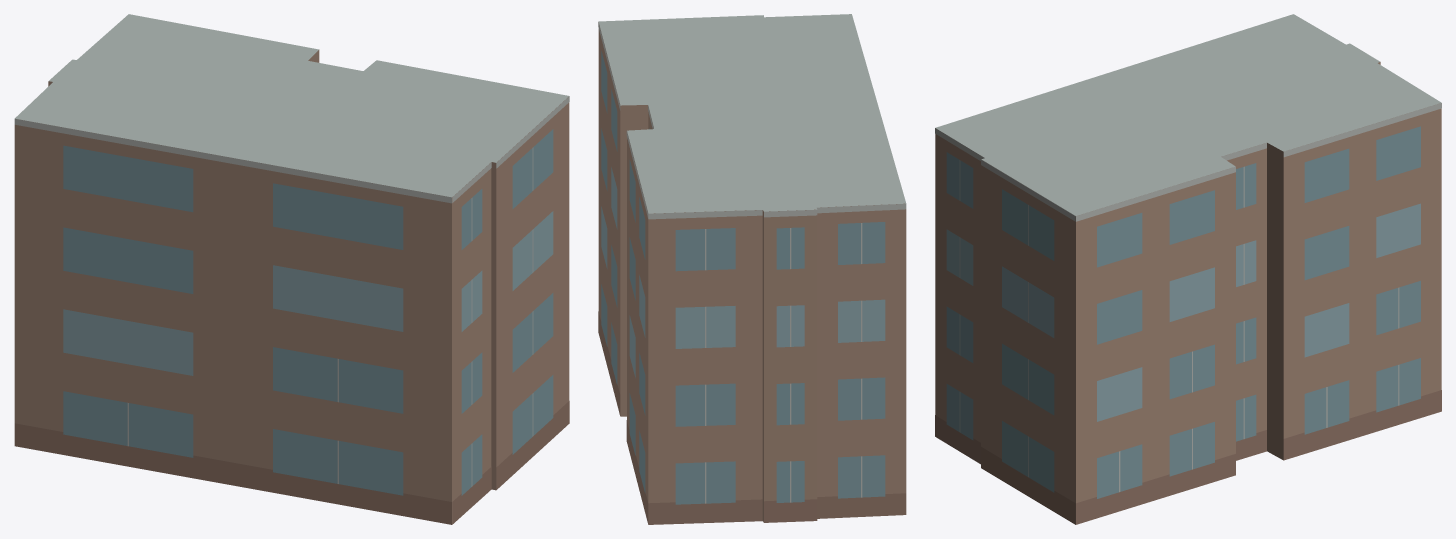
File: survey-upis-32802294.glb
3 renders of one model, left to right at view 1: azimuth 30°, elevation 25°; view 2: azimuth 150°, elevation 25°; view 3: azimuth 270°, elevation 25°, orthographic. The views are drawn at different scales.
Visible parts, largest first — view 1: survey-upis-32802294.tmp; view 2: survey-upis-32802294.tmp; view 3: survey-upis-32802294.tmp.
Boxes of the visible parts, box(x1,y1,x2,y2) form: survey-upis-32802294.tmp: box(14, 14, 569, 524); survey-upis-32802294.tmp: box(598, 14, 906, 524); survey-upis-32802294.tmp: box(935, 14, 1441, 524).
Bounding box in the file's own units: 18.5 × 13.17 × 19.6.
